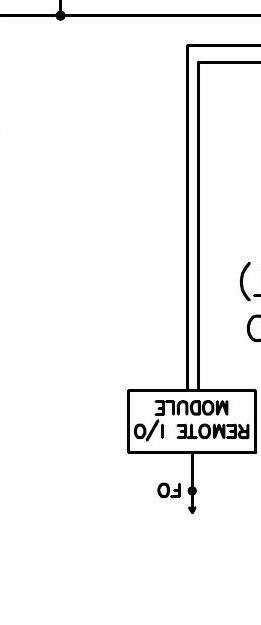remote_io_module: (127, 389, 258, 454)
